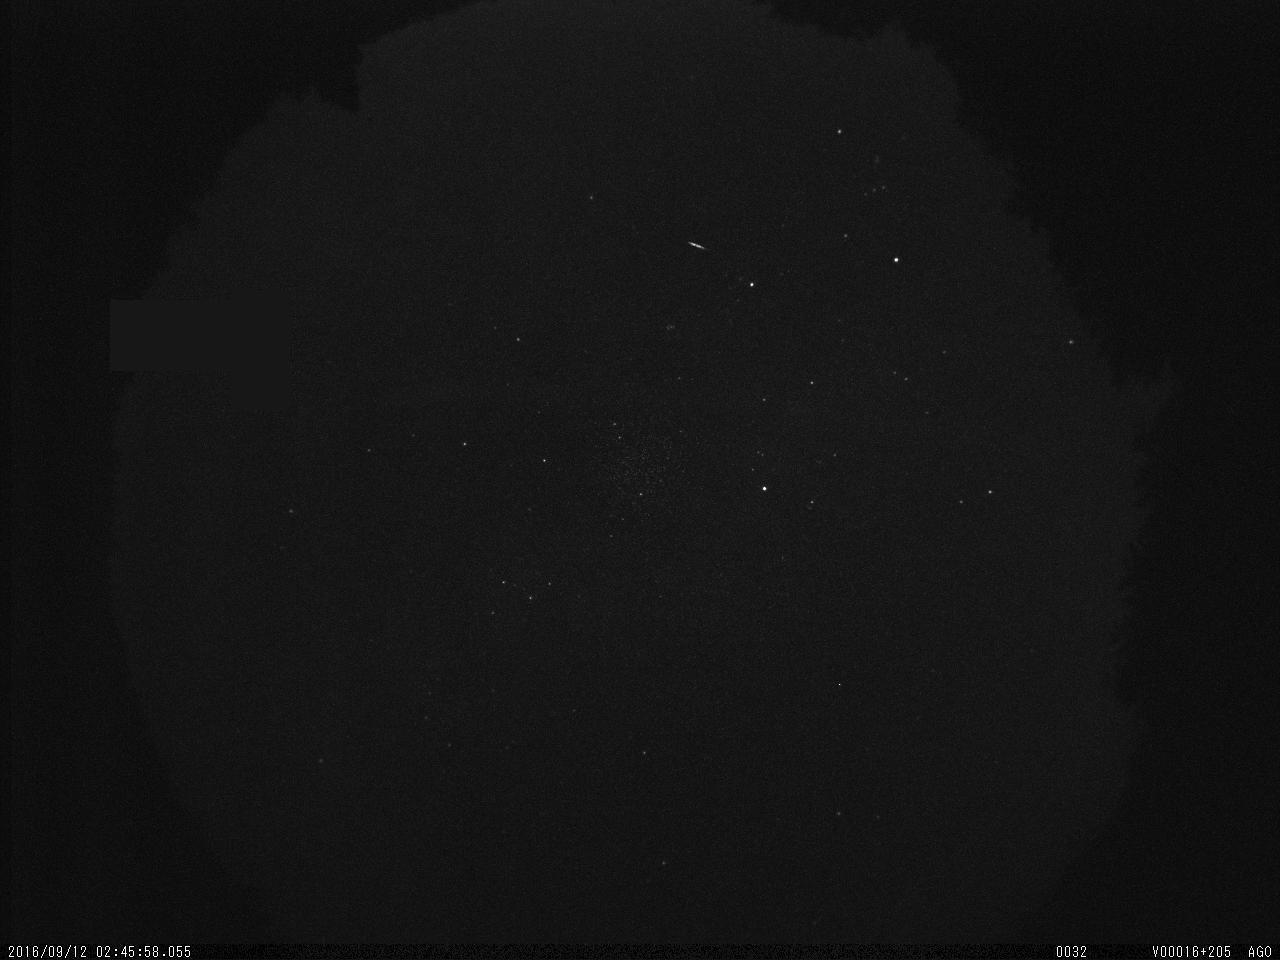meteor: (677, 230, 723, 263)
